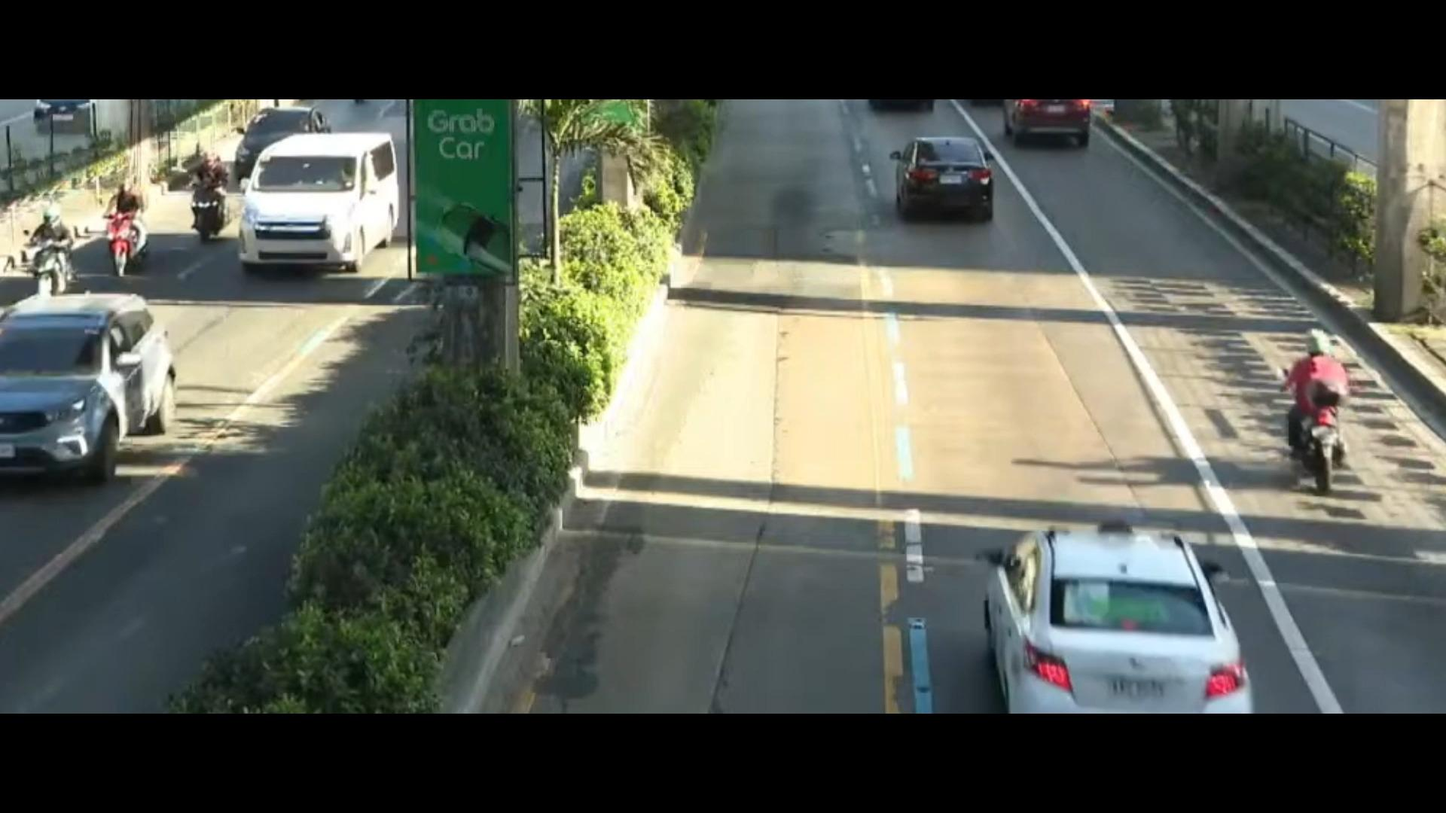Motorcycle: (1270, 326, 1412, 499), (175, 143, 239, 256), (19, 190, 78, 297), (98, 170, 149, 273)
SUV: (0, 285, 194, 479), (226, 94, 319, 172)
Sedan: (947, 495, 1273, 712), (876, 115, 1006, 244)
Van: (211, 130, 405, 288)
